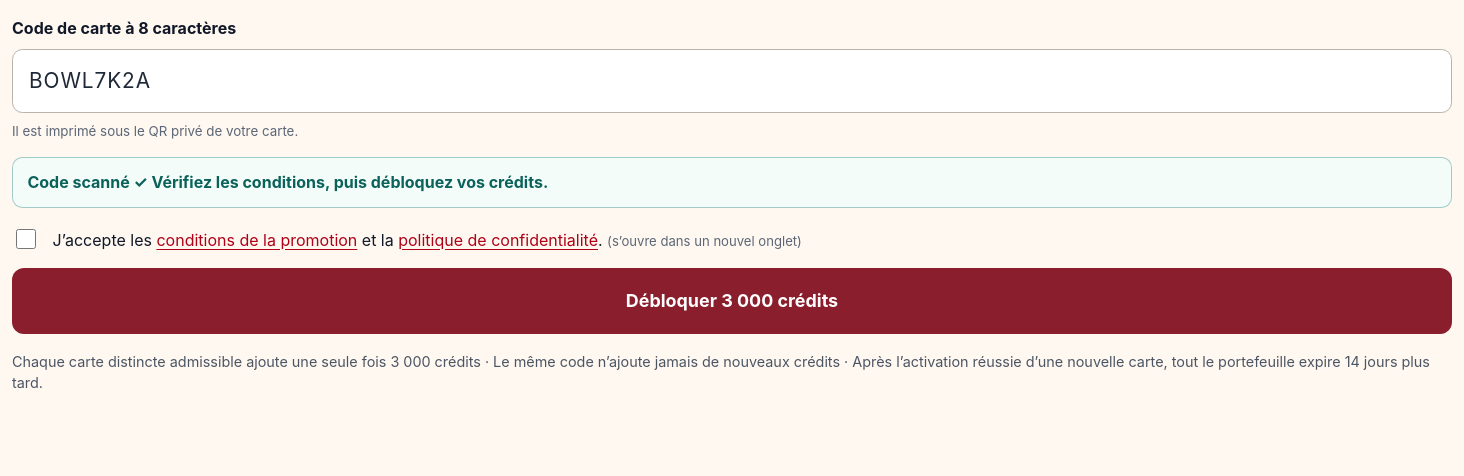
Test: RedeemForm › maps a paused validation response to explicit localized guidance in fr
Click the checkbox named "termsAccepted" at point(26, 239), box [16,229,36,249]
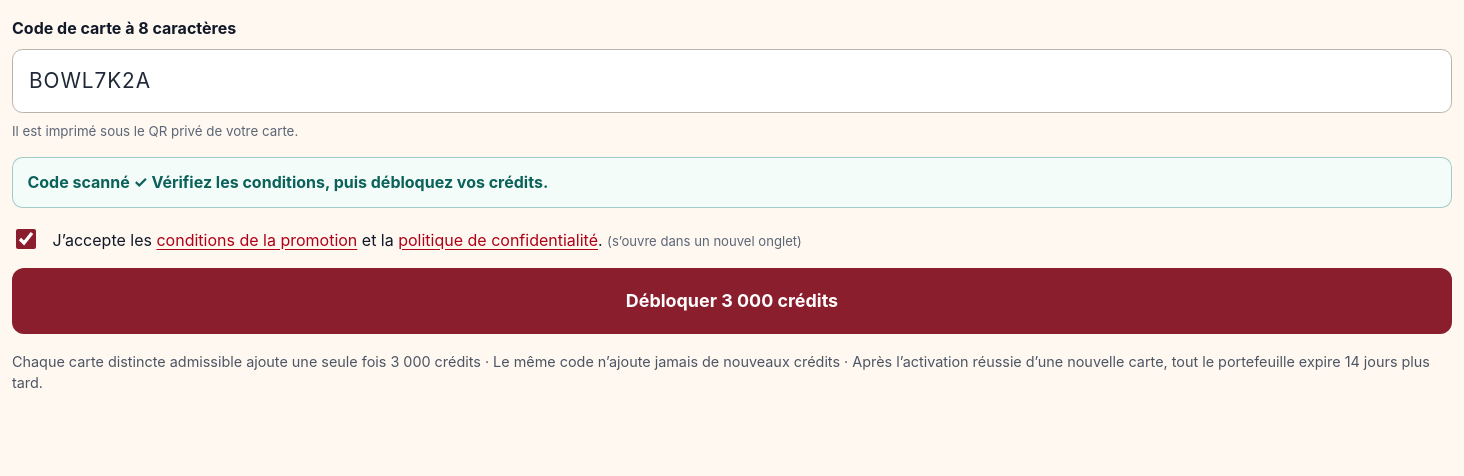
Submit the form
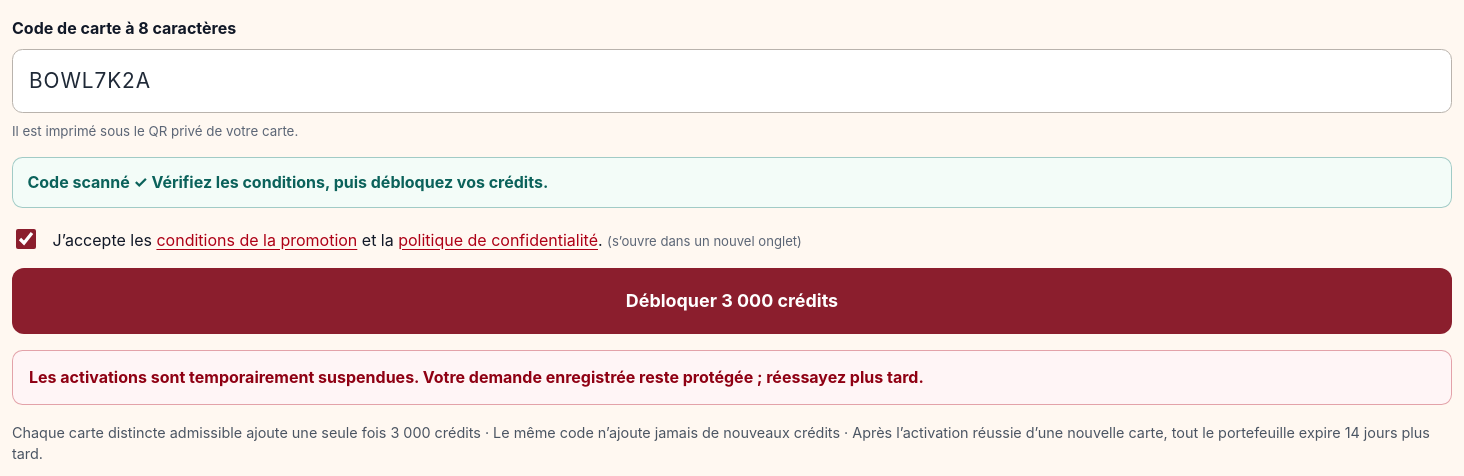
Expected: the text "Les activations sont temporairement suspendues. Votre demande enregistrée reste protégée ; réessayez plus tard." is shown, [29,367,924,387]
